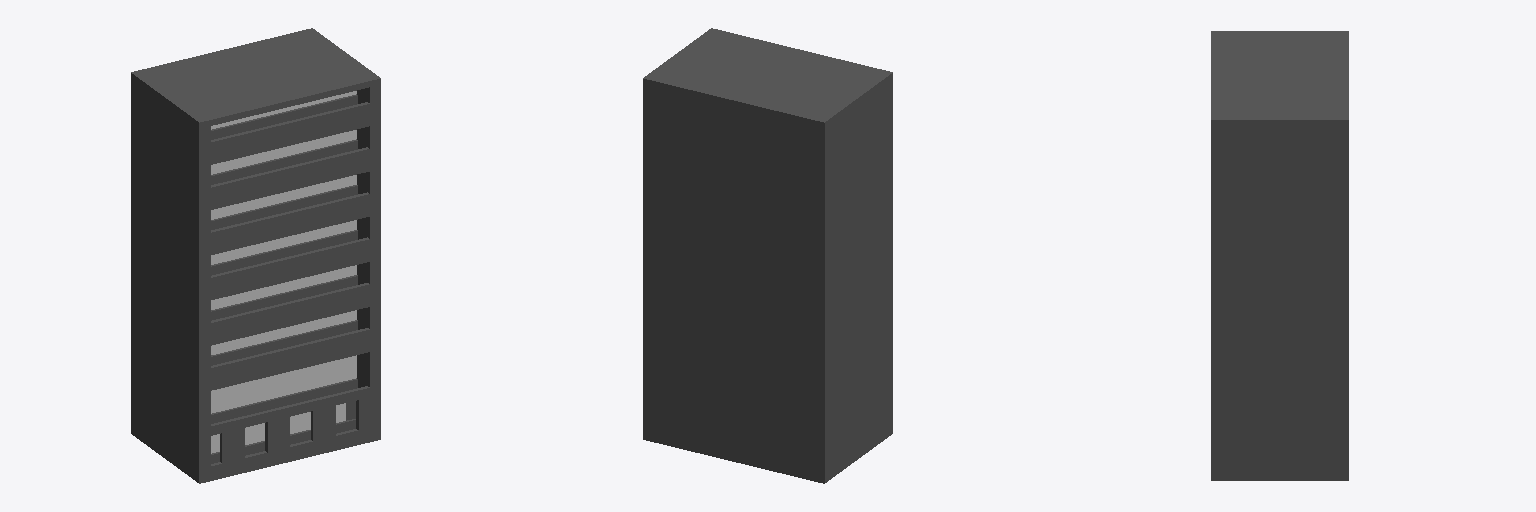
Rendered from Edificio_03.obj.
3 views of the same model, side by side, from view 1: azimuth 30°, elevation 25°; view 2: azimuth 150°, elevation 25°; view 3: azimuth 270°, elevation 25° (orthographic).
Visible parts, largest first — view 1: Edificio_05.003_Cube.016; view 2: Edificio_05.003_Cube.016; view 3: Edificio_05.003_Cube.016.
Boxes of the visible parts, box(x1,y1,x2,y2) form: Edificio_05.003_Cube.016: box(131, 28, 380, 483); Edificio_05.003_Cube.016: box(643, 28, 892, 483); Edificio_05.003_Cube.016: box(1211, 31, 1348, 480).
Size of the model in its own units: 11.01 by 20.92 by 7.22.